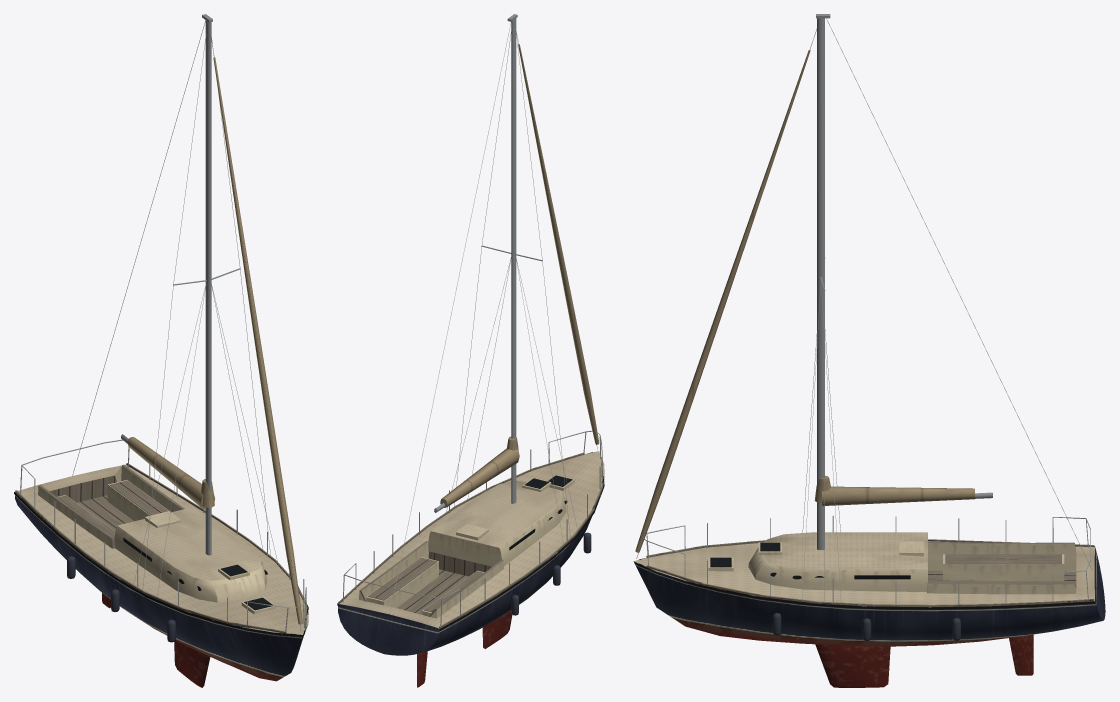
The model's file is sailYacht-b-lod1.glb.
3 renders of one model, left to right at view 1: azimuth 30°, elevation 25°; view 2: azimuth 150°, elevation 25°; view 3: azimuth 270°, elevation 25°, orthographic. The views are drawn at different scales.
Visible parts, largest first — view 1: Hull, Rig, Superstructure, Gear; view 2: Hull, Superstructure, Rig, Gear; view 3: Hull, Superstructure, Rig, Gear.
Part boxes in pixels (bbox=[...]): Hull: bbox=[14, 463, 308, 687]; Rig: bbox=[72, 14, 302, 631]; Superstructure: bbox=[57, 480, 275, 614]; Gear: bbox=[20, 439, 306, 642]; Hull: bbox=[337, 451, 604, 687]; Superstructure: bbox=[366, 475, 574, 616]; Rig: bbox=[390, 14, 599, 611]; Gear: bbox=[342, 430, 602, 625]; Hull: bbox=[633, 539, 1105, 687]; Superstructure: bbox=[708, 532, 1064, 591]; Rig: bbox=[635, 14, 1092, 602]; Gear: bbox=[642, 515, 1090, 640].
Bounding box in the file's own units: 3.81 × 16.53 × 10.52.
1 material, 1 textured.
